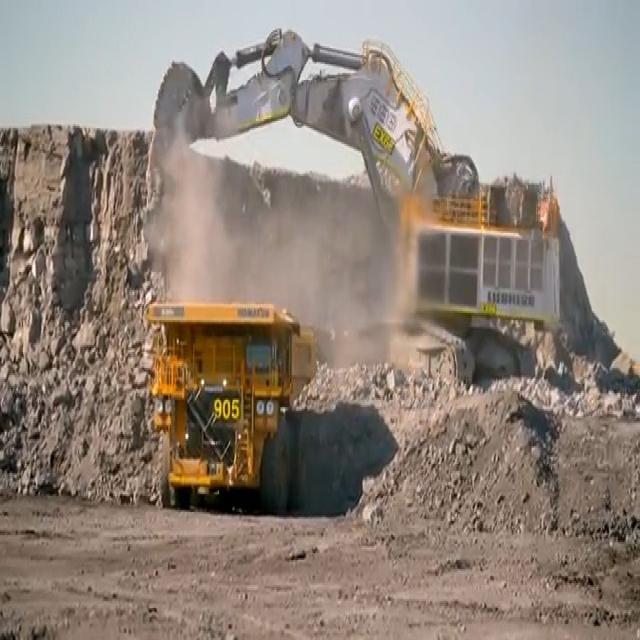dump_truck: (146, 300, 314, 518)
excavator: (122, 35, 562, 305)
